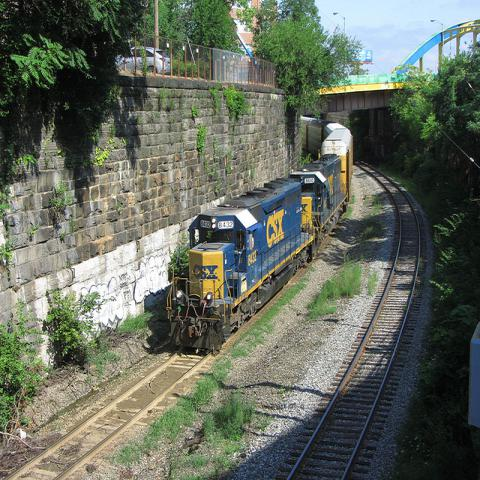car: (115, 47, 172, 74)
